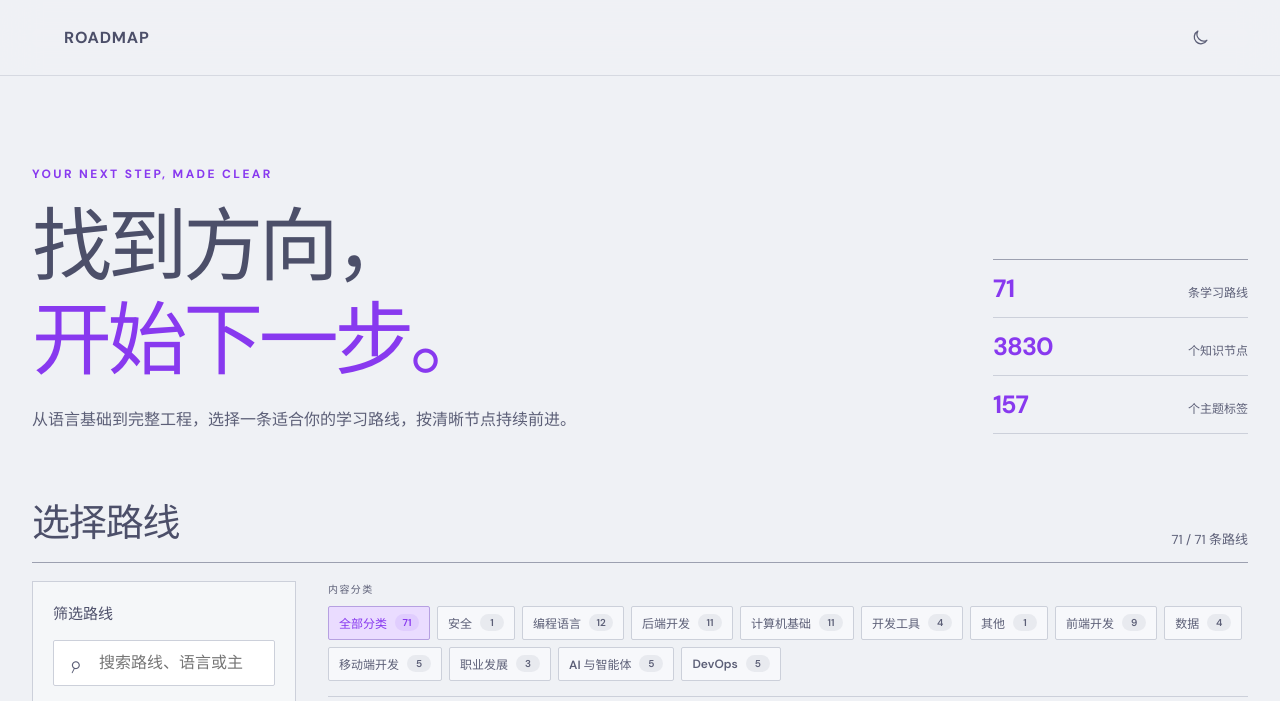
Test: App › filters roadmaps by their content directory category
Click the button "编程语言 12": (573, 623) [522,606,624,640]
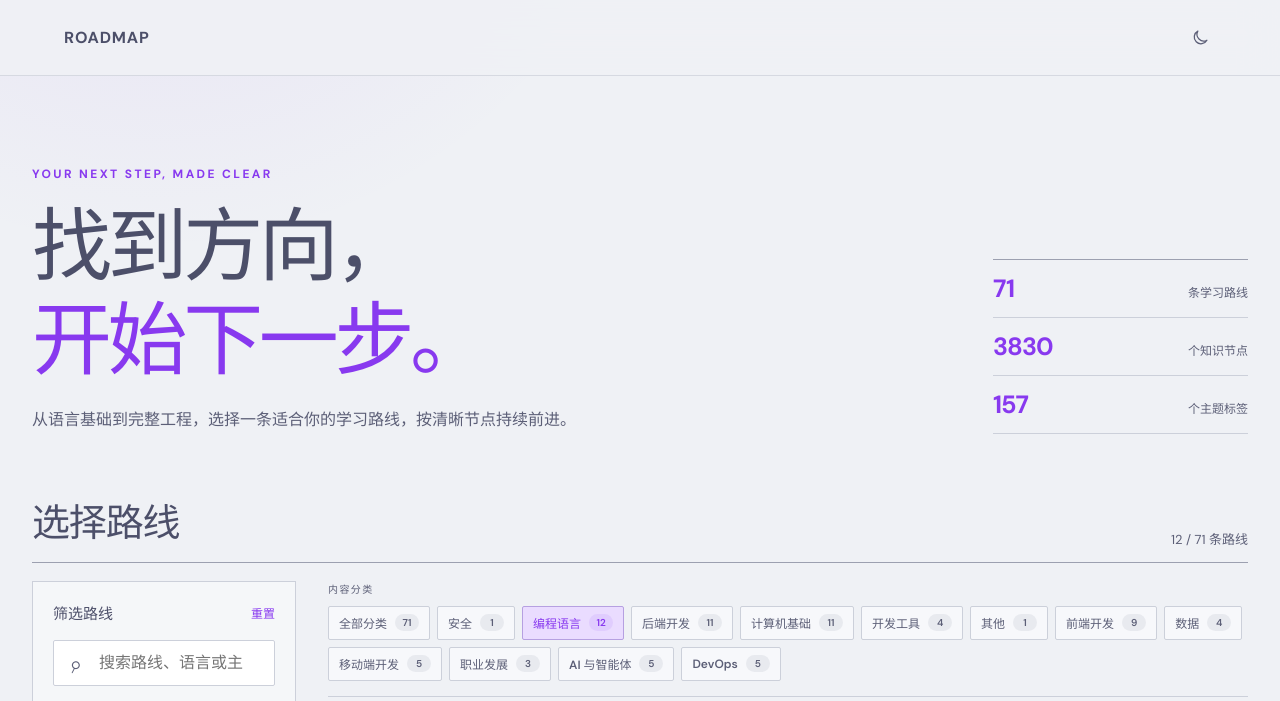
Click the button "重置": (263, 613) [251,604,275,622]
(page scrolled)
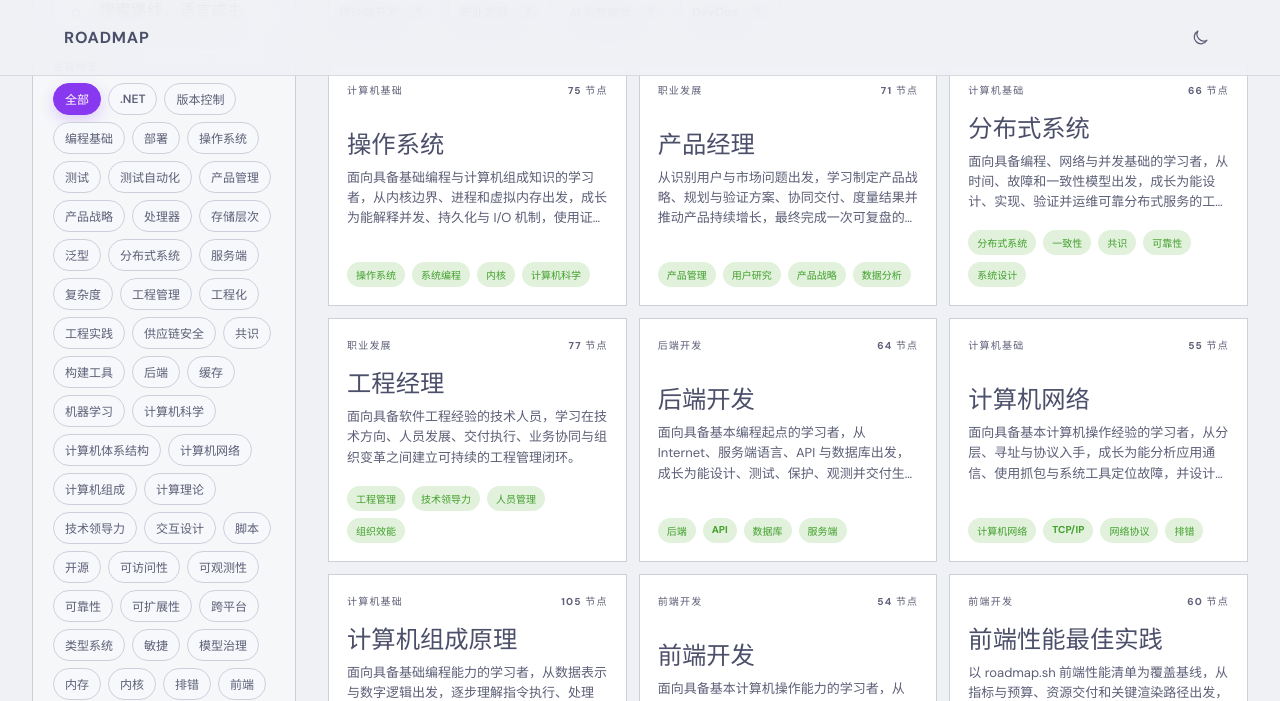
expect the heading "后端开发" is shown: met, box [658,384,755,416]
